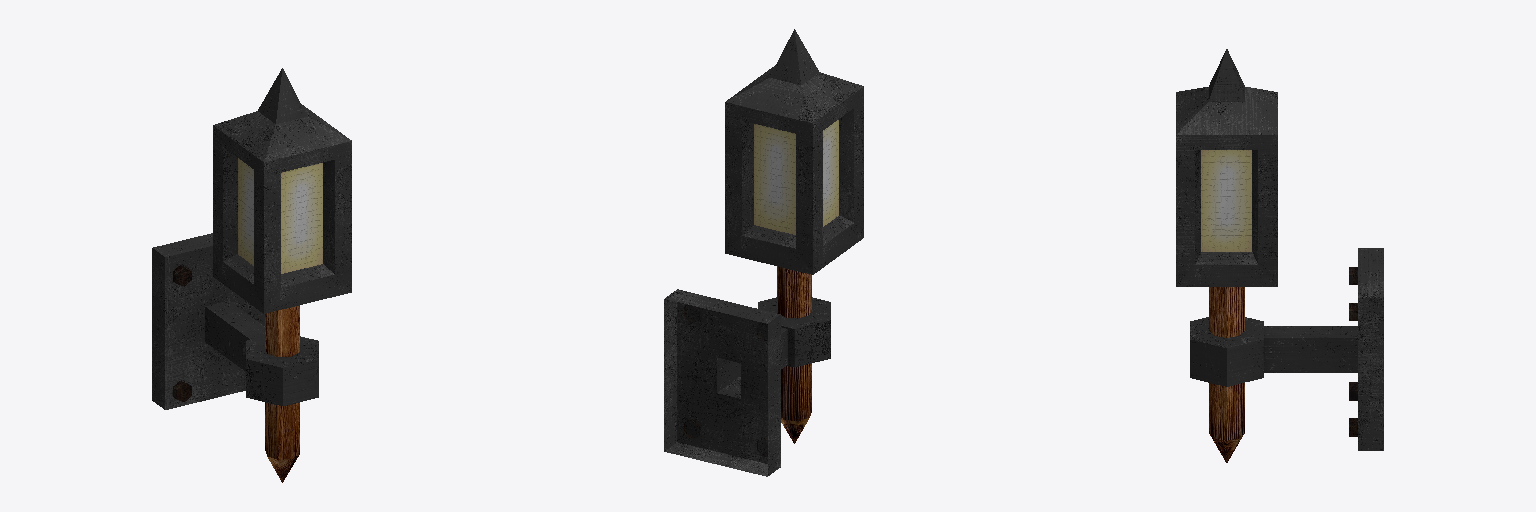
3 renders of one model, left to right at view 1: azimuth 30°, elevation 25°; view 2: azimuth 150°, elevation 25°; view 3: azimuth 270°, elevation 25°, orthographic.
Visible parts, largest first — view 1: Lamp; view 2: Lamp; view 3: Lamp.
Part boxes in pixels (left/top/right/bottom): Lamp: left=152, top=68, right=351, bottom=482; Lamp: left=664, top=29, right=863, bottom=476; Lamp: left=1176, top=49, right=1383, bottom=462.
Bounding box in the file's own units: 0.2804 × 1.08 × 0.4892.
2 materials, 1 textured.